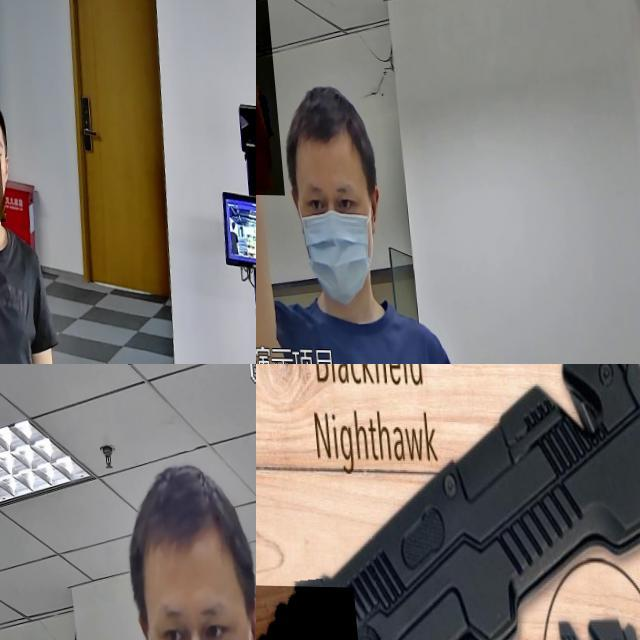gun-knife-thesis - v11 Yolov5 augmented: (256, 0, 307, 194), (0, 123, 23, 220)
